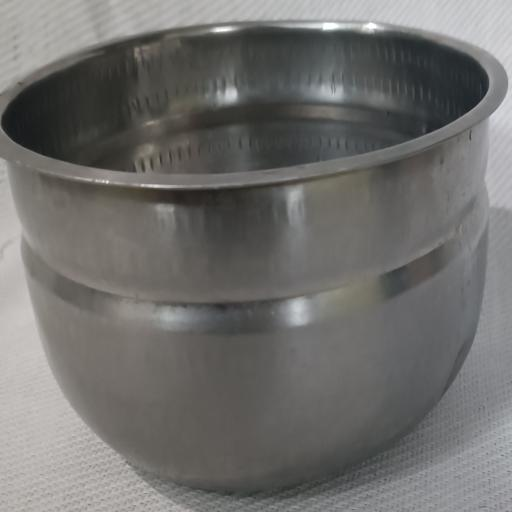vessel: (0, 21, 507, 491)
